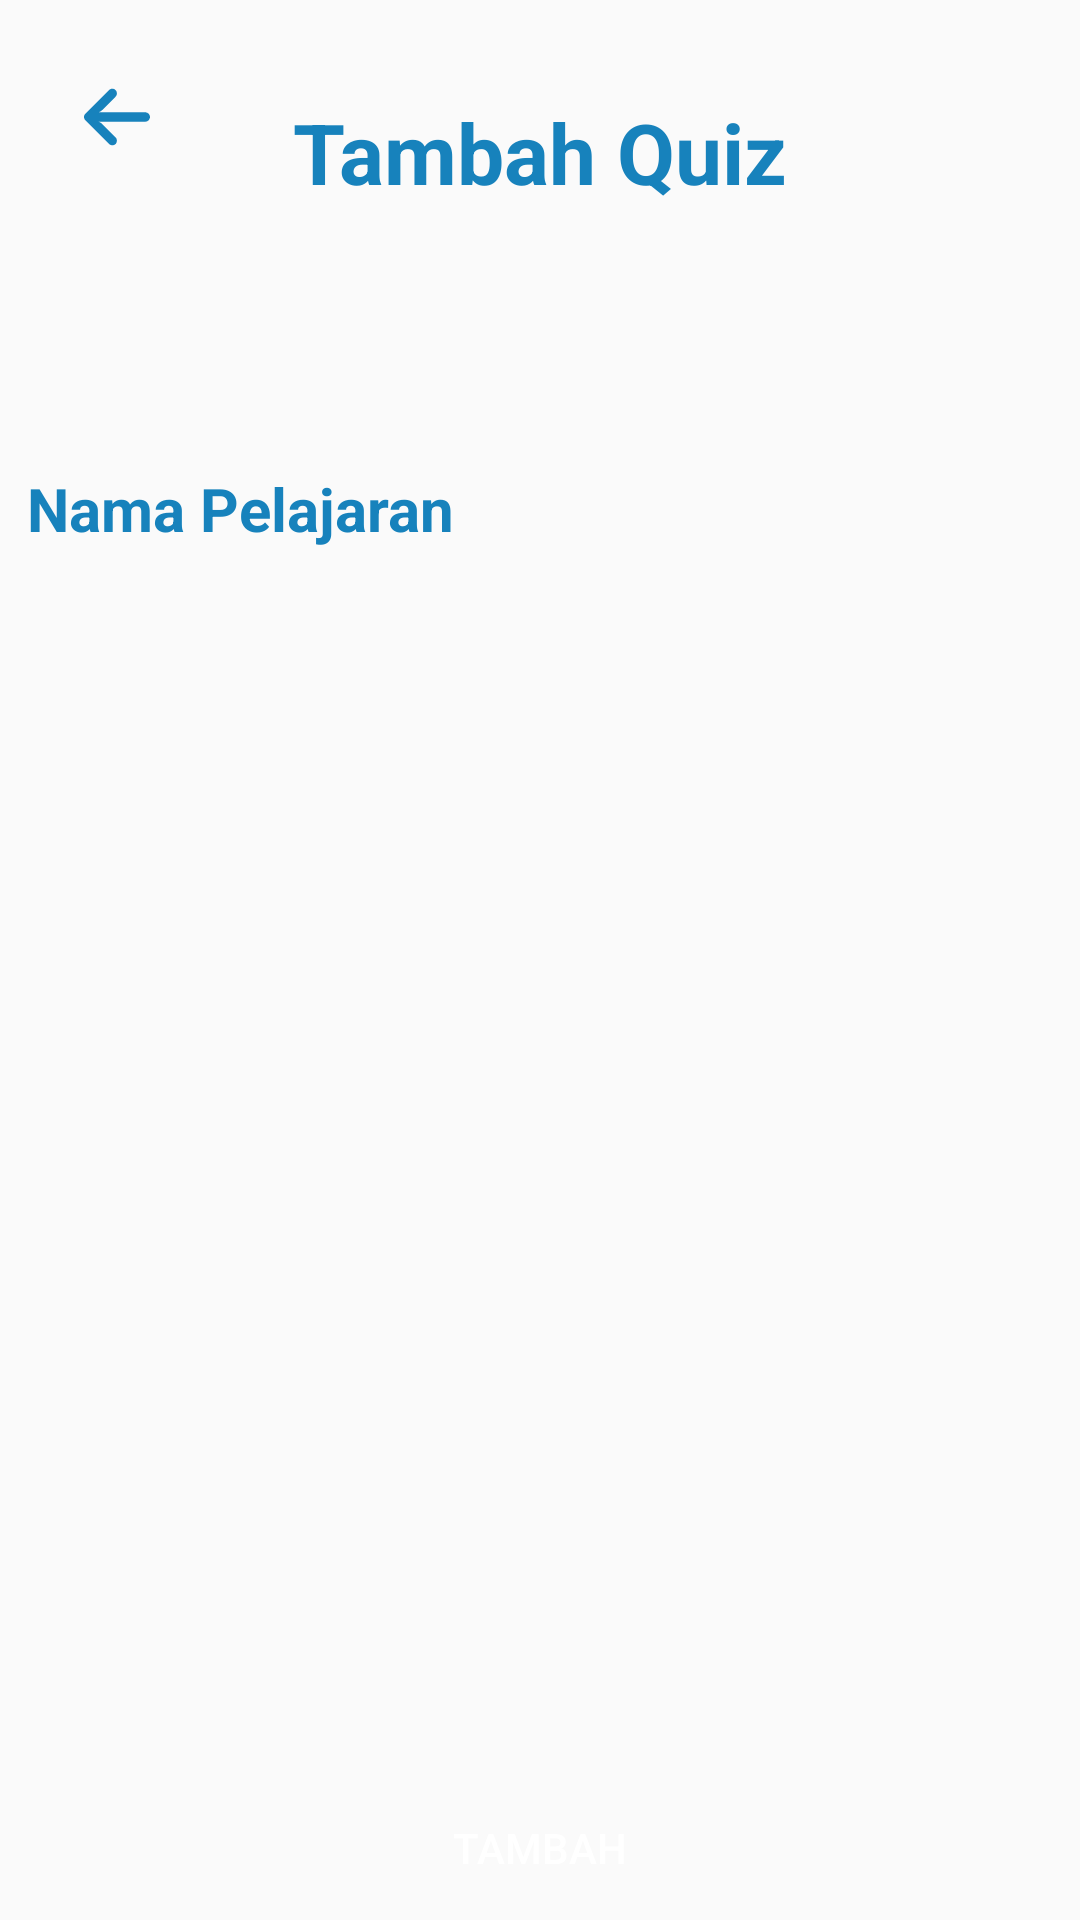

Icons on this 1080px x 1920px Android screen, each with the point to tap as [x,y]:
arrow: [117,117]
